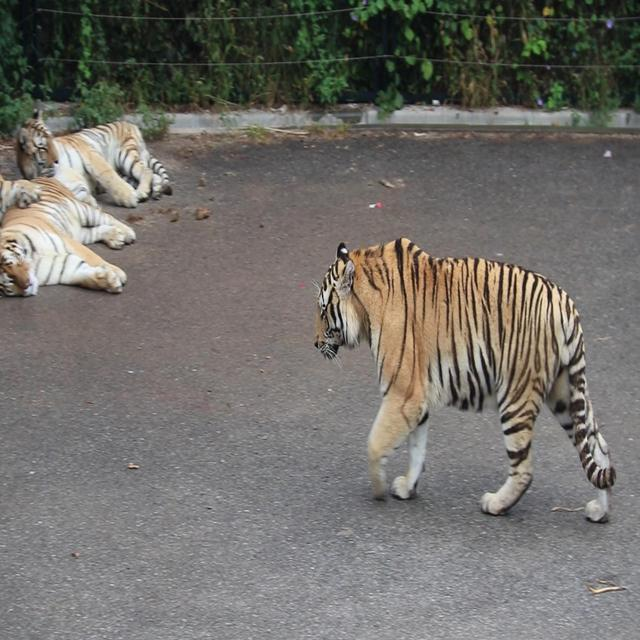tiger: (312, 235, 616, 523), (0, 166, 136, 297), (13, 107, 172, 208)
